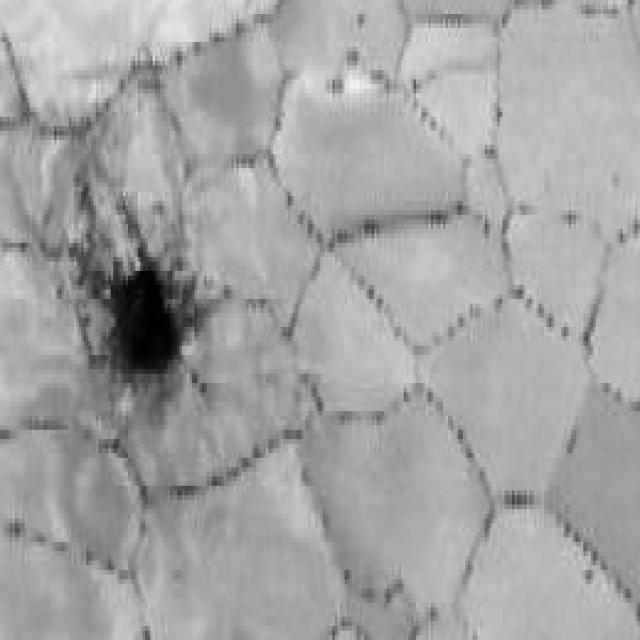good_void: (52, 174, 214, 416)
